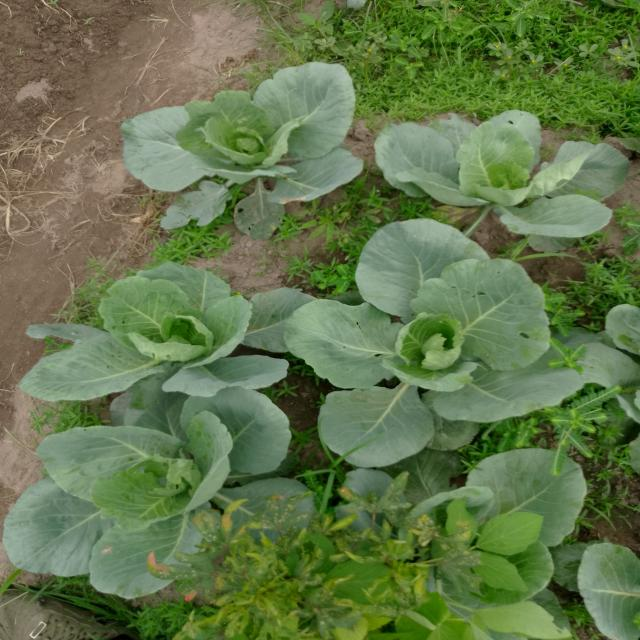Cabbage: (285, 223, 577, 452), (13, 388, 304, 614), (79, 49, 383, 228), (406, 434, 640, 640), (362, 72, 640, 232), (27, 235, 285, 405)
